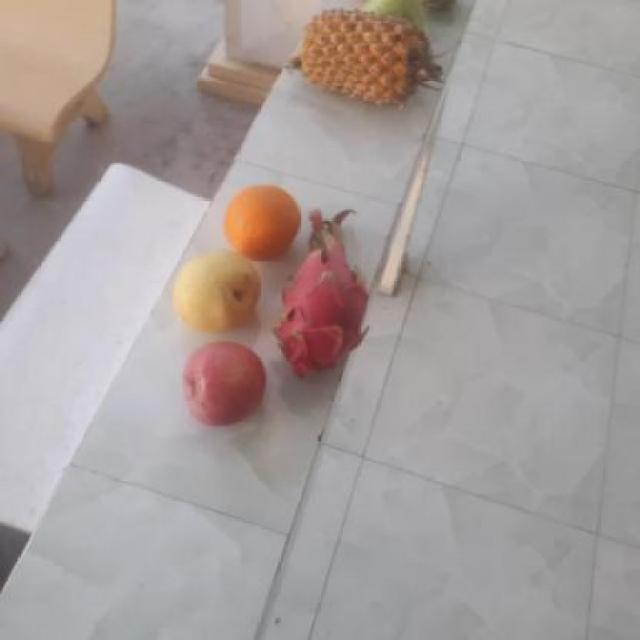apple: (177, 340, 266, 428)
dragon fruit: (265, 230, 372, 378)
oren: (218, 184, 300, 262)
pear: (169, 249, 263, 333)
pineapple: (299, 4, 430, 107)
